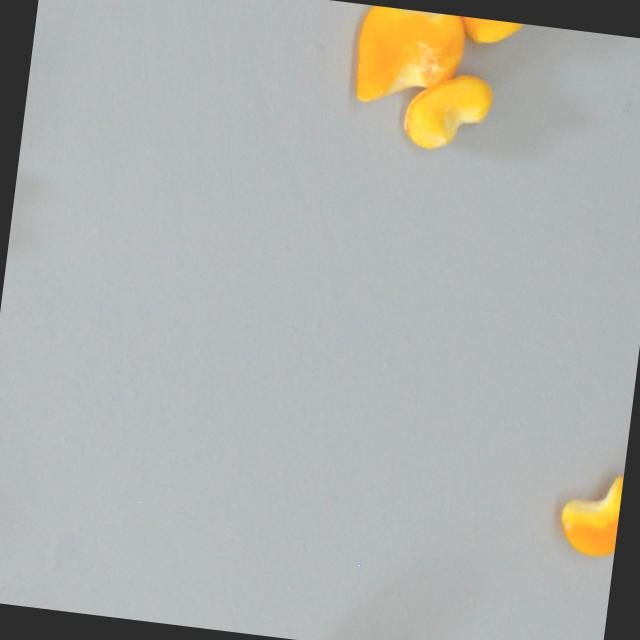no_canjicado: (556, 467, 624, 559)
pelicula: (350, 3, 466, 112), (399, 67, 495, 155), (439, 13, 532, 48)
